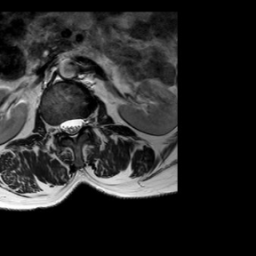CCS_normal: (68, 111, 76, 147)
LFS_normal: (84, 109, 91, 133)
LLS_normal: (76, 110, 84, 137)
RFS_normal: (52, 113, 60, 140)
RLS_normal: (60, 111, 68, 140)
